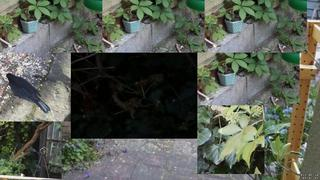blackbird: (6, 73, 51, 114)
